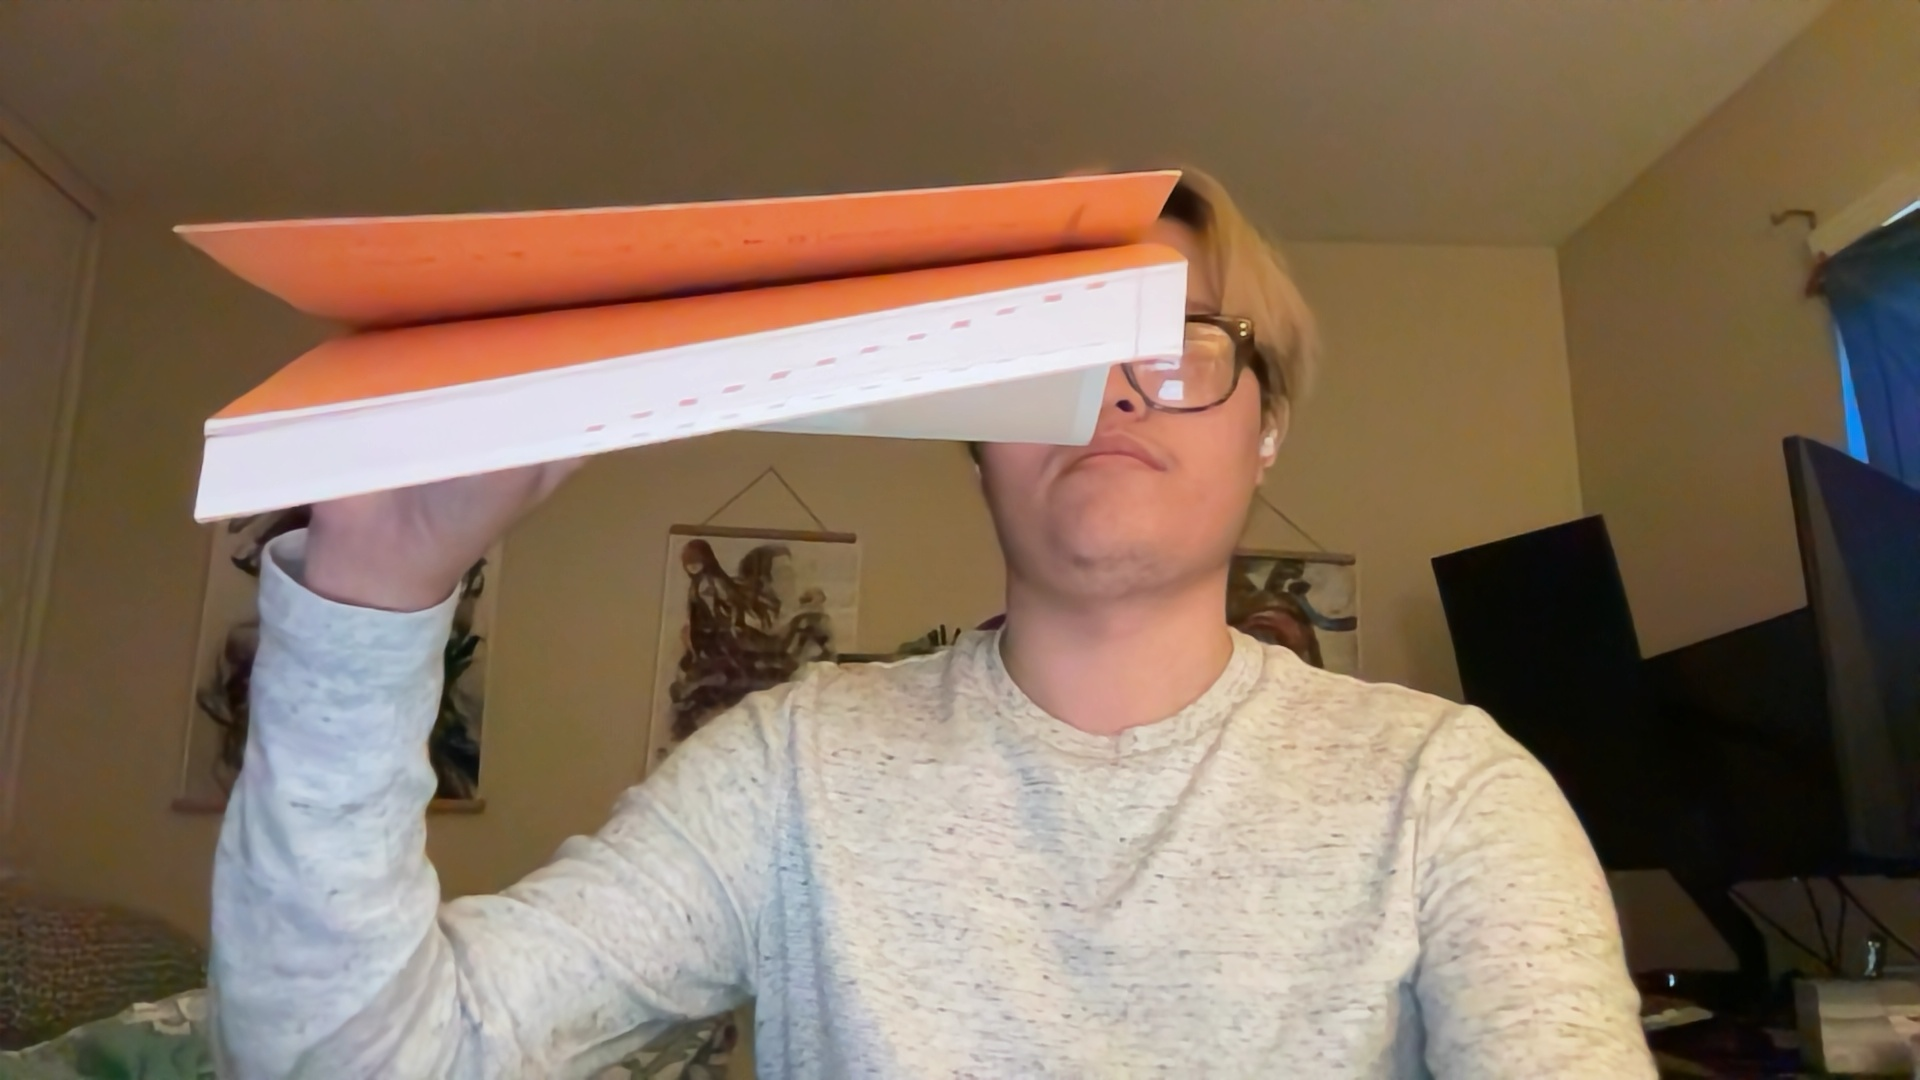book: (169, 170, 1188, 525)
